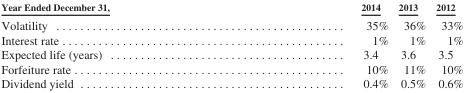table: (0, 1, 462, 89)
table column: (0, 1, 234, 89), (234, 1, 392, 89), (392, 1, 430, 89), (430, 1, 462, 89)
table column header: (0, 1, 462, 15)
table row: (0, 15, 462, 32), (0, 32, 462, 47), (0, 61, 462, 76), (0, 1, 462, 15), (0, 47, 462, 61), (0, 76, 462, 89)
